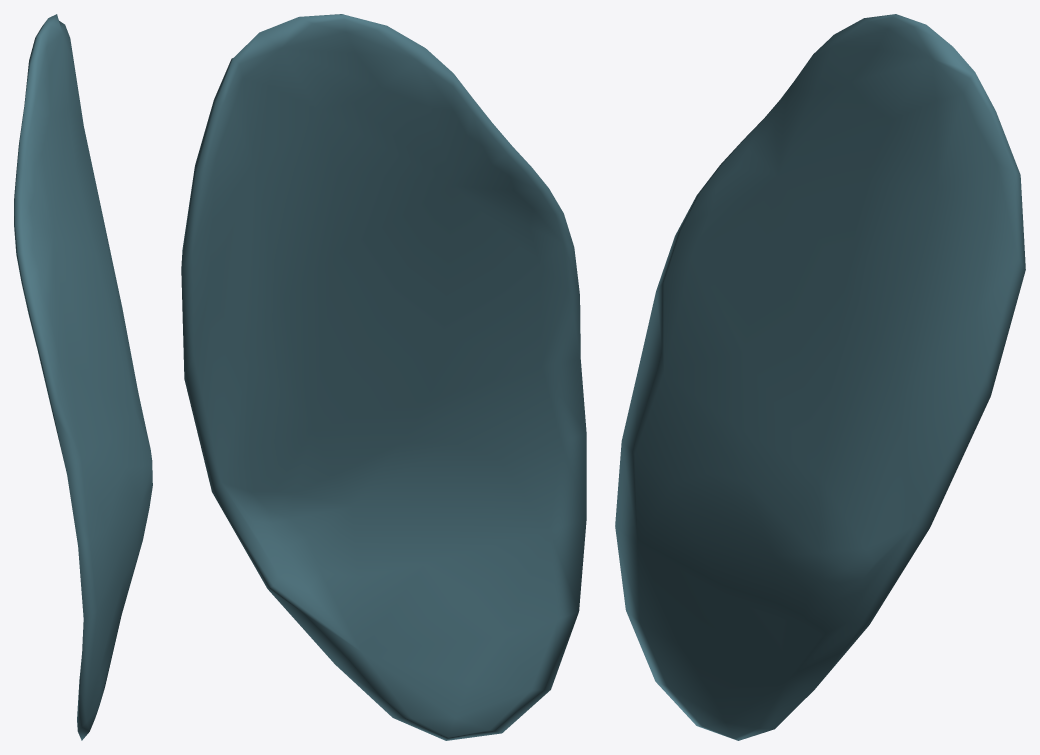
File: Biceps_brachii_muscle-Radial_insertion.r_Generated_Mesh_From_X3.glb
3 views of the same model, side by side, from view 1: azimuth 30°, elevation 25°; view 2: azimuth 150°, elevation 25°; view 3: azimuth 270°, elevation 25° (orthographic). The views are drawn at different scales.
Parts seen in each view (by area): view 1: Biceps_brachii_muscle-Radial_insertion.r_Generated_Mesh_From; view 2: Biceps_brachii_muscle-Radial_insertion.r_Generated_Mesh_From; view 3: Biceps_brachii_muscle-Radial_insertion.r_Generated_Mesh_From.
Boxes of the visible parts, x1,y1,x2,y2 form: Biceps_brachii_muscle-Radial_insertion.r_Generated_Mesh_From: (14, 14, 152, 740); Biceps_brachii_muscle-Radial_insertion.r_Generated_Mesh_From: (181, 14, 586, 740); Biceps_brachii_muscle-Radial_insertion.r_Generated_Mesh_From: (615, 14, 1025, 740).
Bounding box in the file's own units: 0.00728 × 0.023 × 0.0116.
